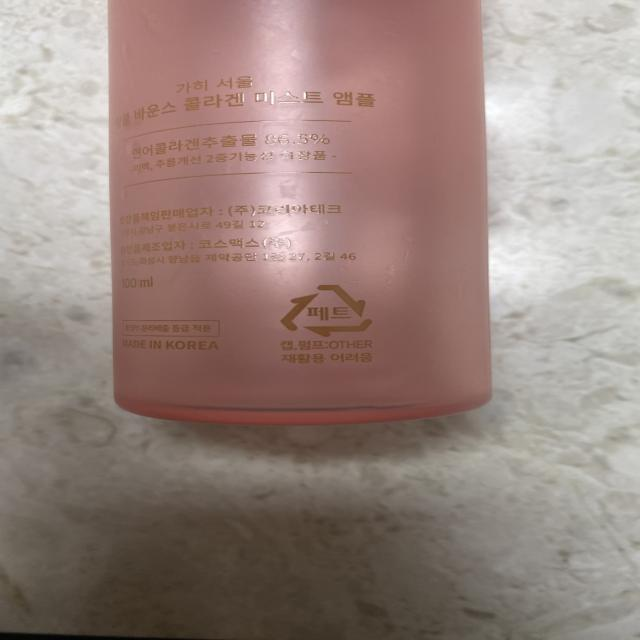PET: (274, 280, 389, 340)
